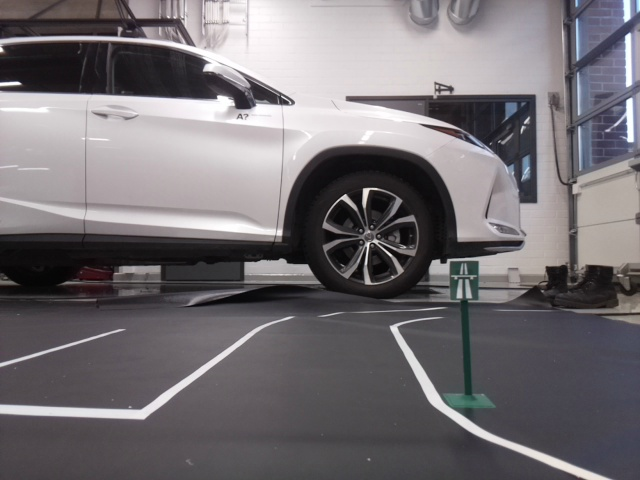HighwayEntrance: (450, 260, 477, 298)
